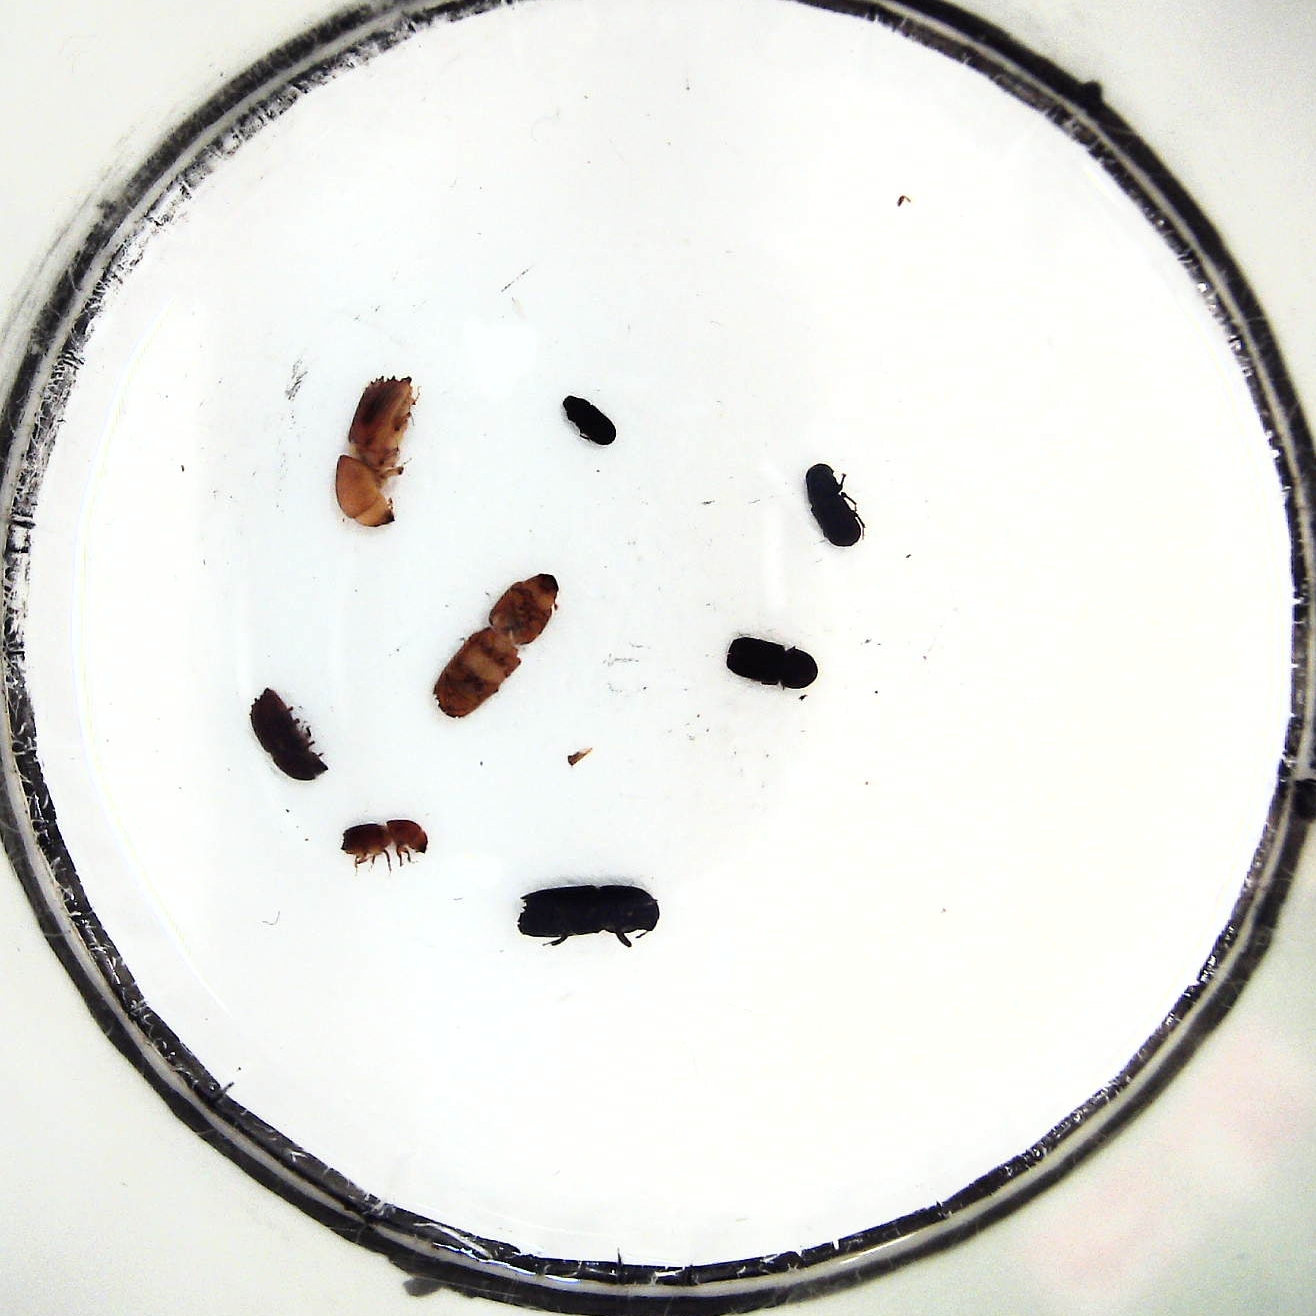Boerner: (425, 571, 565, 722), (327, 369, 422, 531), (504, 885, 660, 946)
Linnaeus: (245, 681, 331, 785), (722, 631, 817, 697)
acuminatus: (337, 817, 430, 868)
armandi: (807, 459, 860, 556)
coleoptera: (560, 389, 617, 450)
